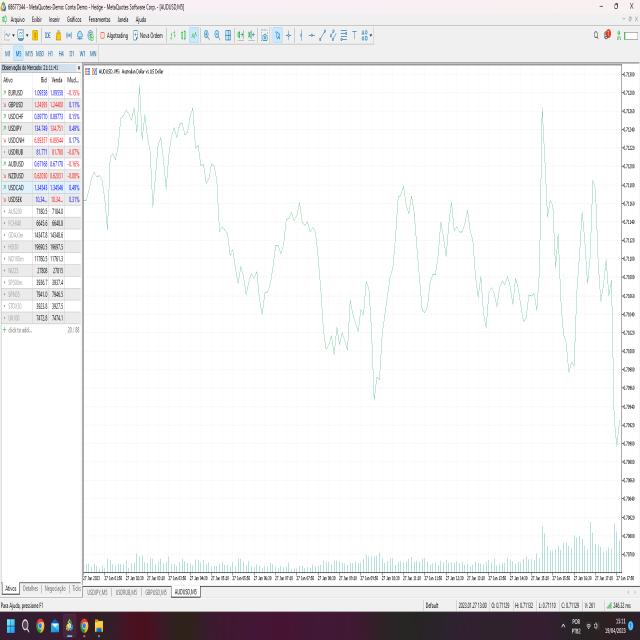fundo_duplo: (143, 125, 176, 223)
oco_inv: (546, 228, 594, 397)
